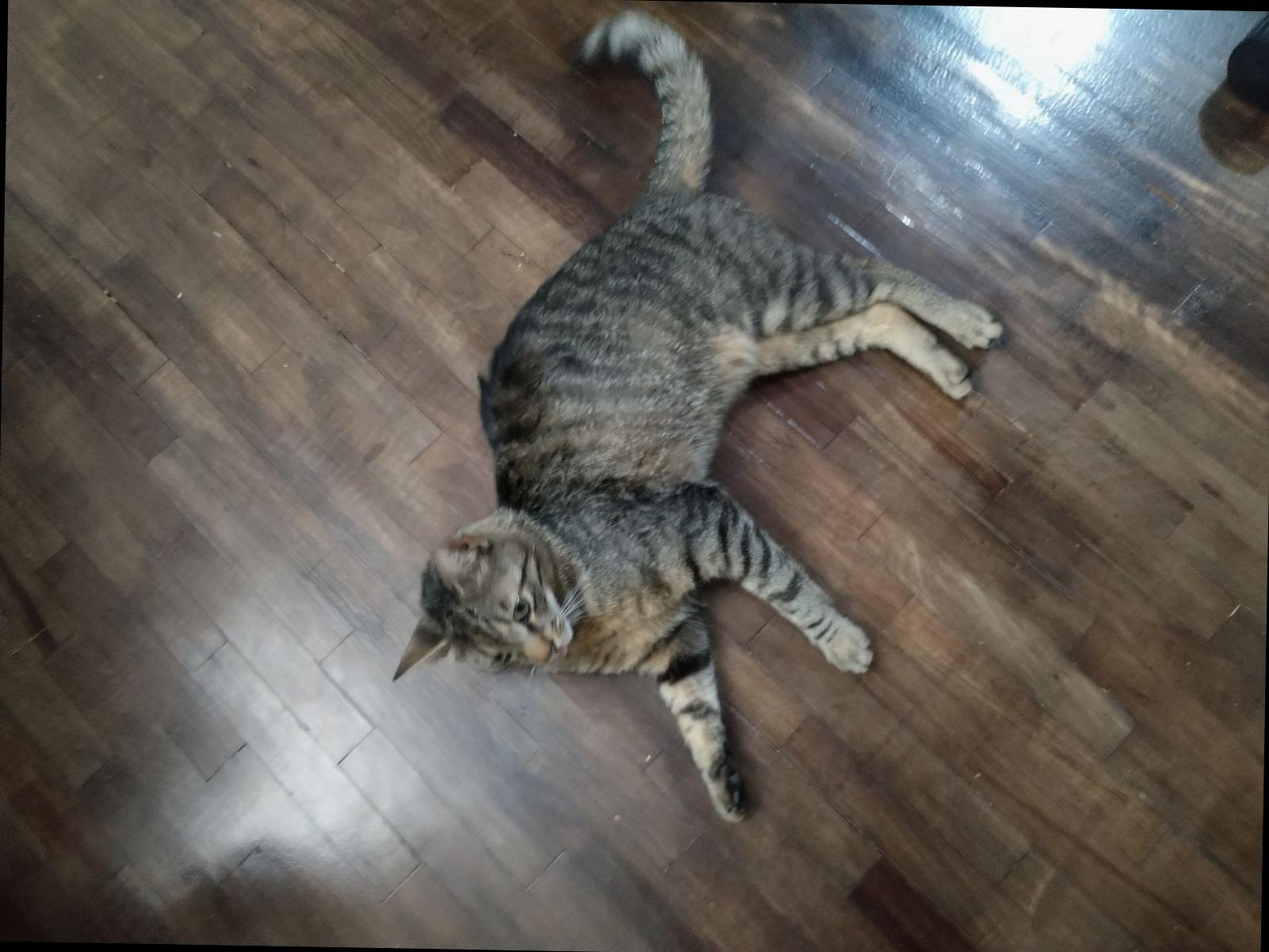macka: (391, 8, 1017, 826)
